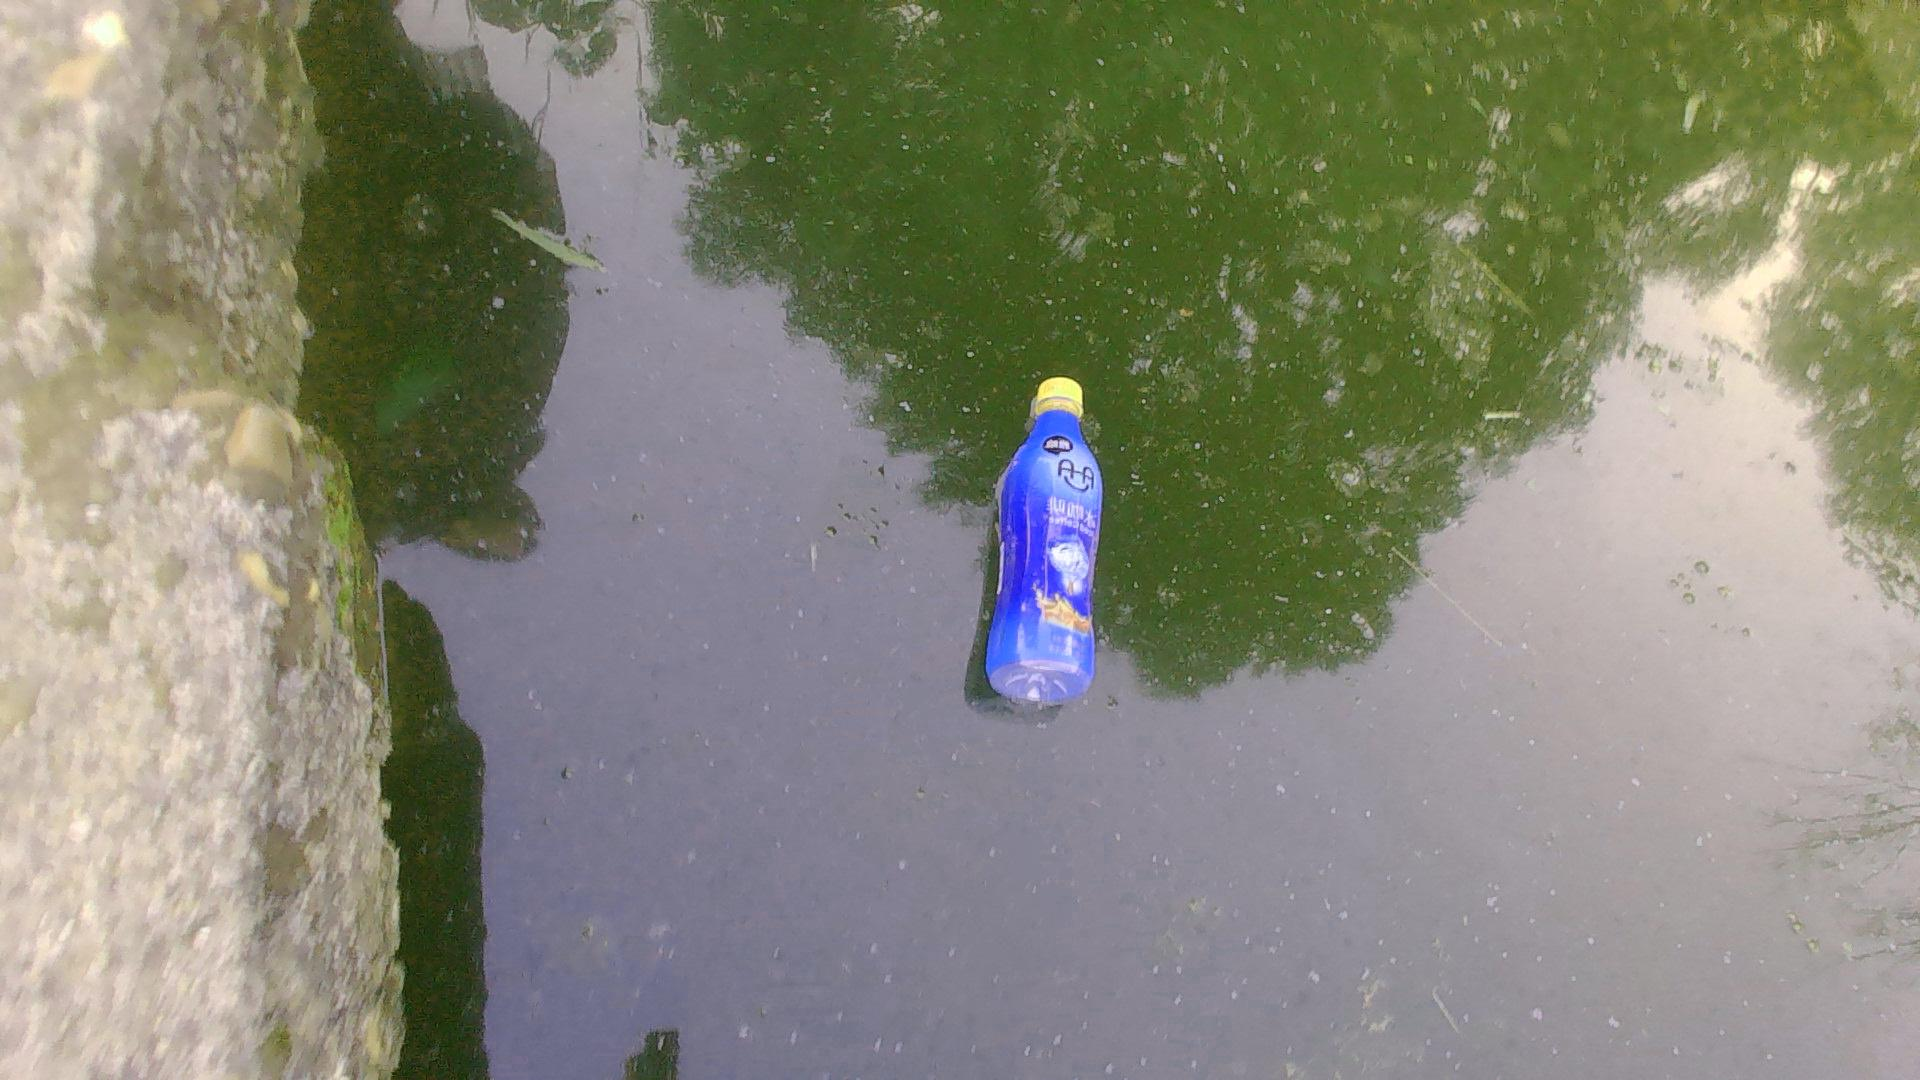Plastic: (978, 368, 1108, 712)
